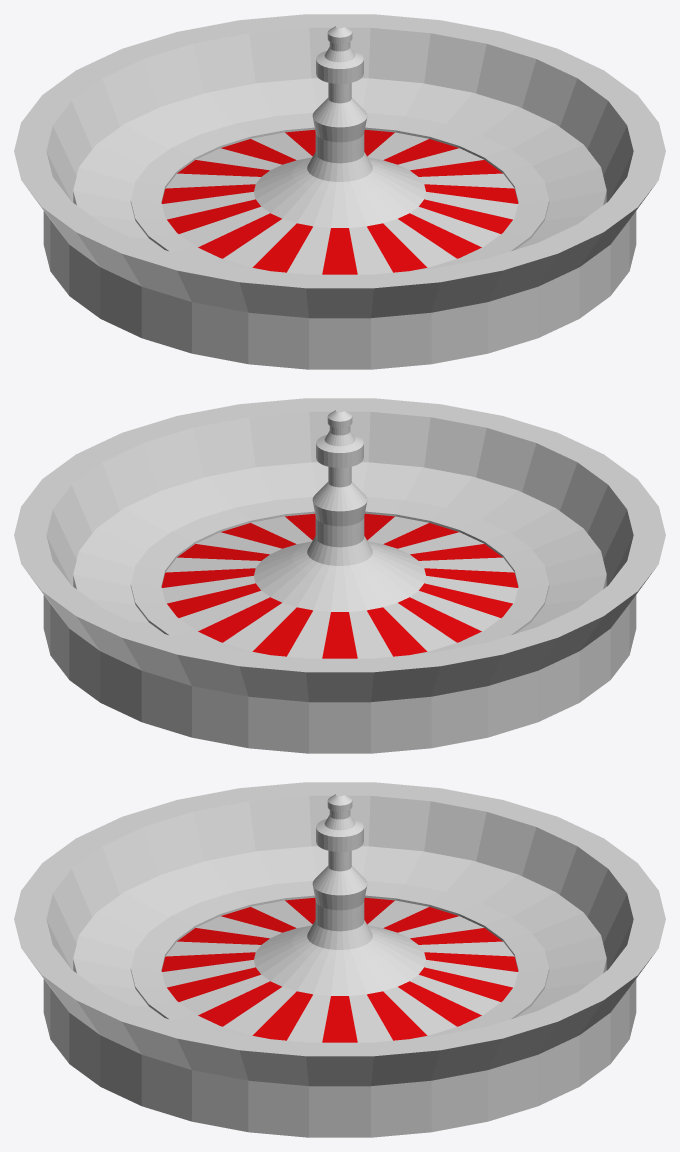
The model's file is TestModel.glb.
The picture shows the model from 3 angles, top to bottom: view 1: azimuth 30°, elevation 25°; view 2: azimuth 150°, elevation 25°; view 3: azimuth 270°, elevation 25°; orthographic projection.
Visible parts, largest first — view 1: Cylinder; view 2: Cylinder; view 3: Cylinder.
Boxes of the visible parts, x1,y1,x2,y2 form: Cylinder: (14,14,665,369); Cylinder: (14,398,665,753); Cylinder: (14,782,665,1137).
Size of the model in its own units: 6.17 by 2.29 by 6.2.
